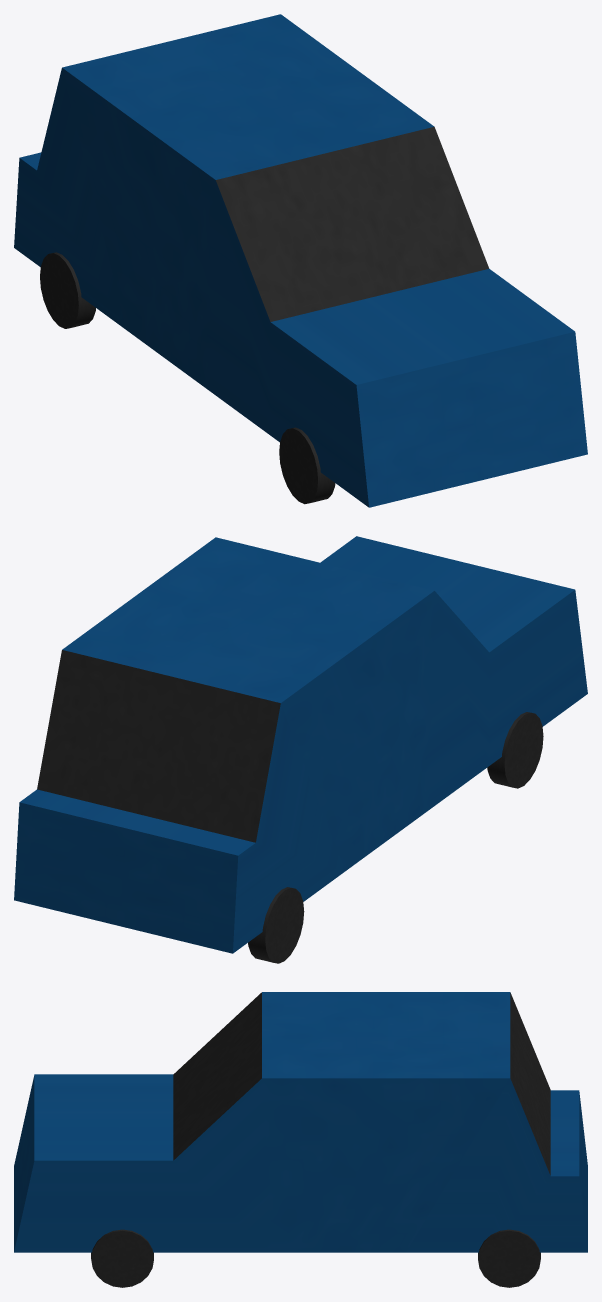
Rendered from car.fbx.
The picture shows the model from 3 angles, top to bottom: view 1: azimuth 30°, elevation 25°; view 2: azimuth 150°, elevation 25°; view 3: azimuth 270°, elevation 25°; orthographic projection. The views are drawn at different scales.
Parts seen in each view (by area): view 1: car; view 2: car; view 3: car.
Boxes of the visible parts, x1=… form: car: x1=14, y1=14, x2=587, y2=507; car: x1=14, y1=536, x2=587, y2=963; car: x1=14, y1=992, x2=587, y2=1287.
Size of the model in its own units: 156 by 170 by 425.
